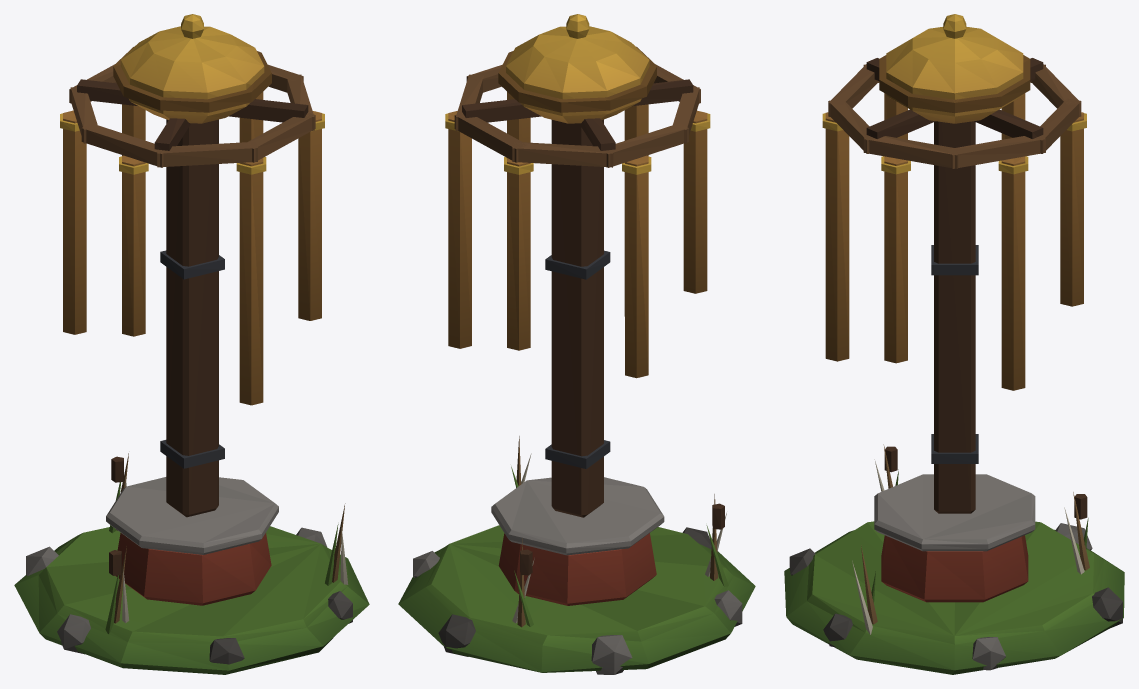
Rendered from deep_chime.glb.
The picture shows the model from 3 angles, left to right: view 1: azimuth 30°, elevation 25°; view 2: azimuth 150°, elevation 25°; view 3: azimuth 270°, elevation 25°; orthographic projection.
Parts seen in each view (by area): view 1: deep_chime; view 2: deep_chime; view 3: deep_chime.
Part boxes in pixels (left/top/right/bottom): deep_chime: left=14, top=14, right=369, bottom=674; deep_chime: left=398, top=14, right=755, bottom=674; deep_chime: left=784, top=14, right=1124, bottom=674.
Bounding box in the file's own units: 0.9387 × 1.73 × 0.899.
